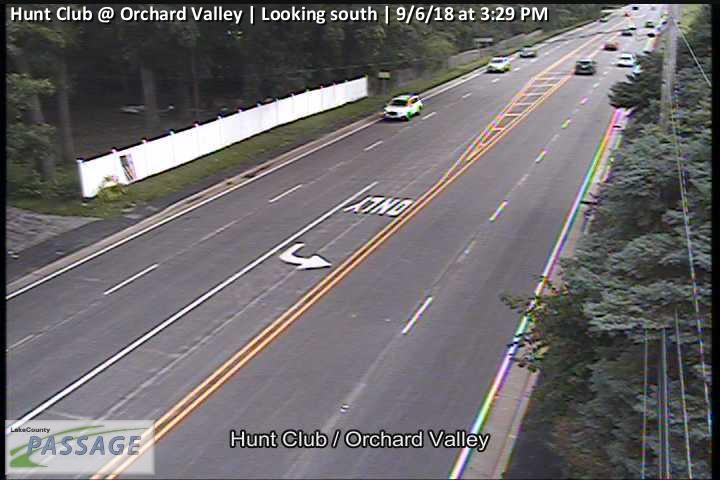Sedan: (384, 94, 423, 120), (487, 56, 511, 72), (575, 60, 593, 75), (617, 53, 633, 66), (520, 46, 538, 56), (602, 40, 618, 49)
